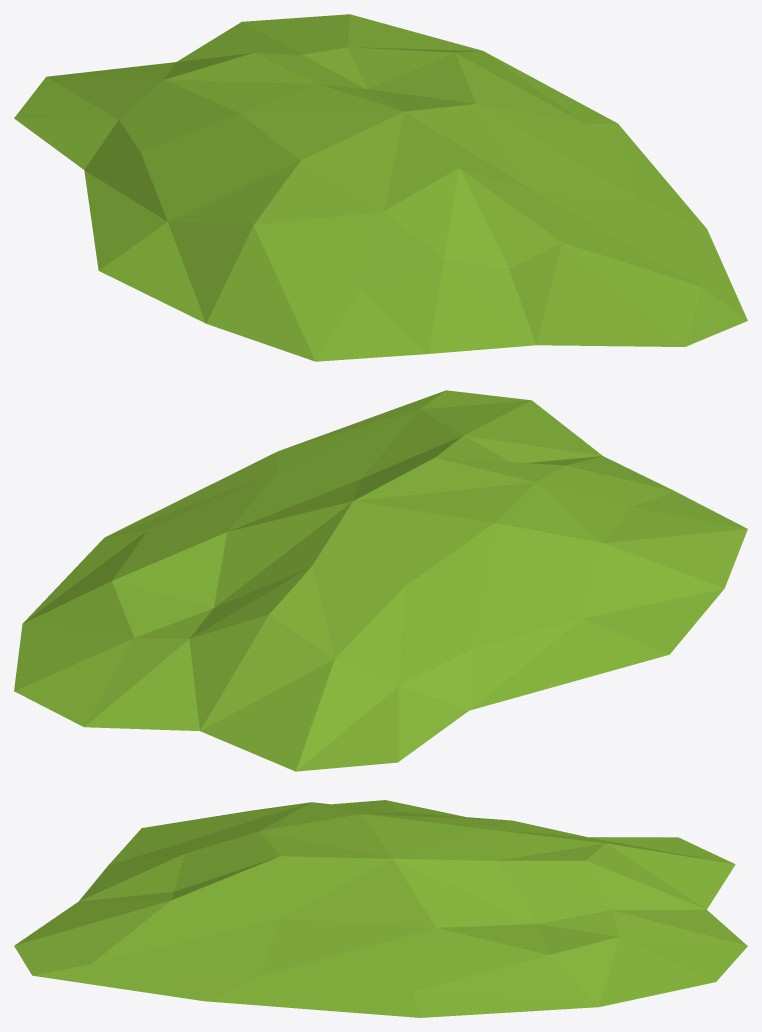
The model's file is co_Hillock_A_03.fbx.
3 views of the same model, one above another, from view 1: azimuth 30°, elevation 25°; view 2: azimuth 150°, elevation 25°; view 3: azimuth 270°, elevation 25° (orthographic). The views are drawn at different scales.
Visible parts, largest first — view 1: Hillock_A_03; view 2: Hillock_A_03; view 3: Hillock_A_03.
Part boxes in pixels (bbox=[...]): Hillock_A_03: bbox=[14, 14, 747, 361]; Hillock_A_03: bbox=[14, 390, 747, 771]; Hillock_A_03: bbox=[14, 800, 747, 1017].
Bounding box in the file's own units: 15531 × 2202 × 22104.
